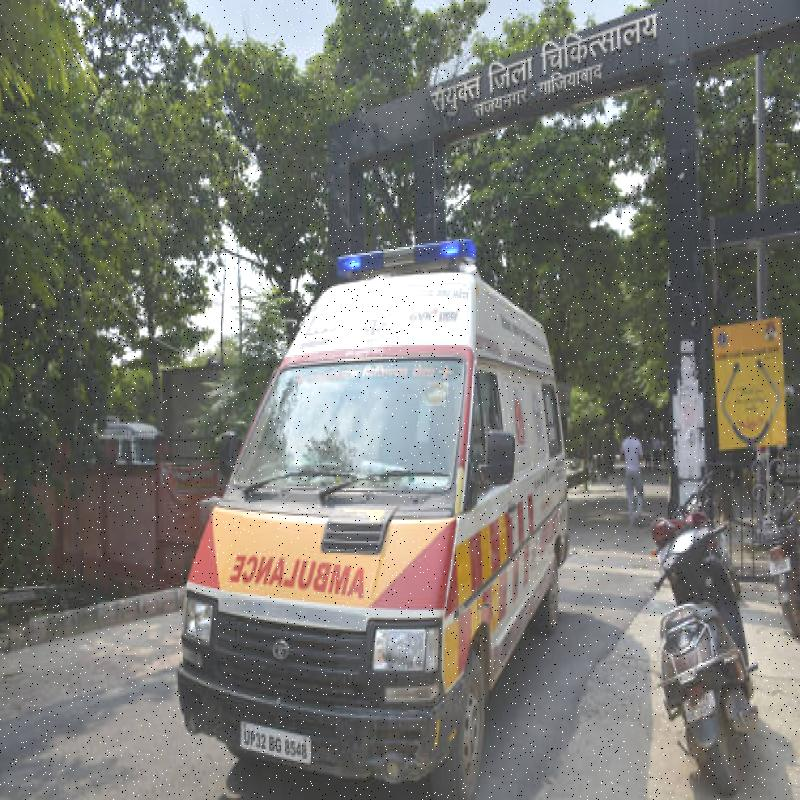ambulance: (176, 212, 548, 777)
